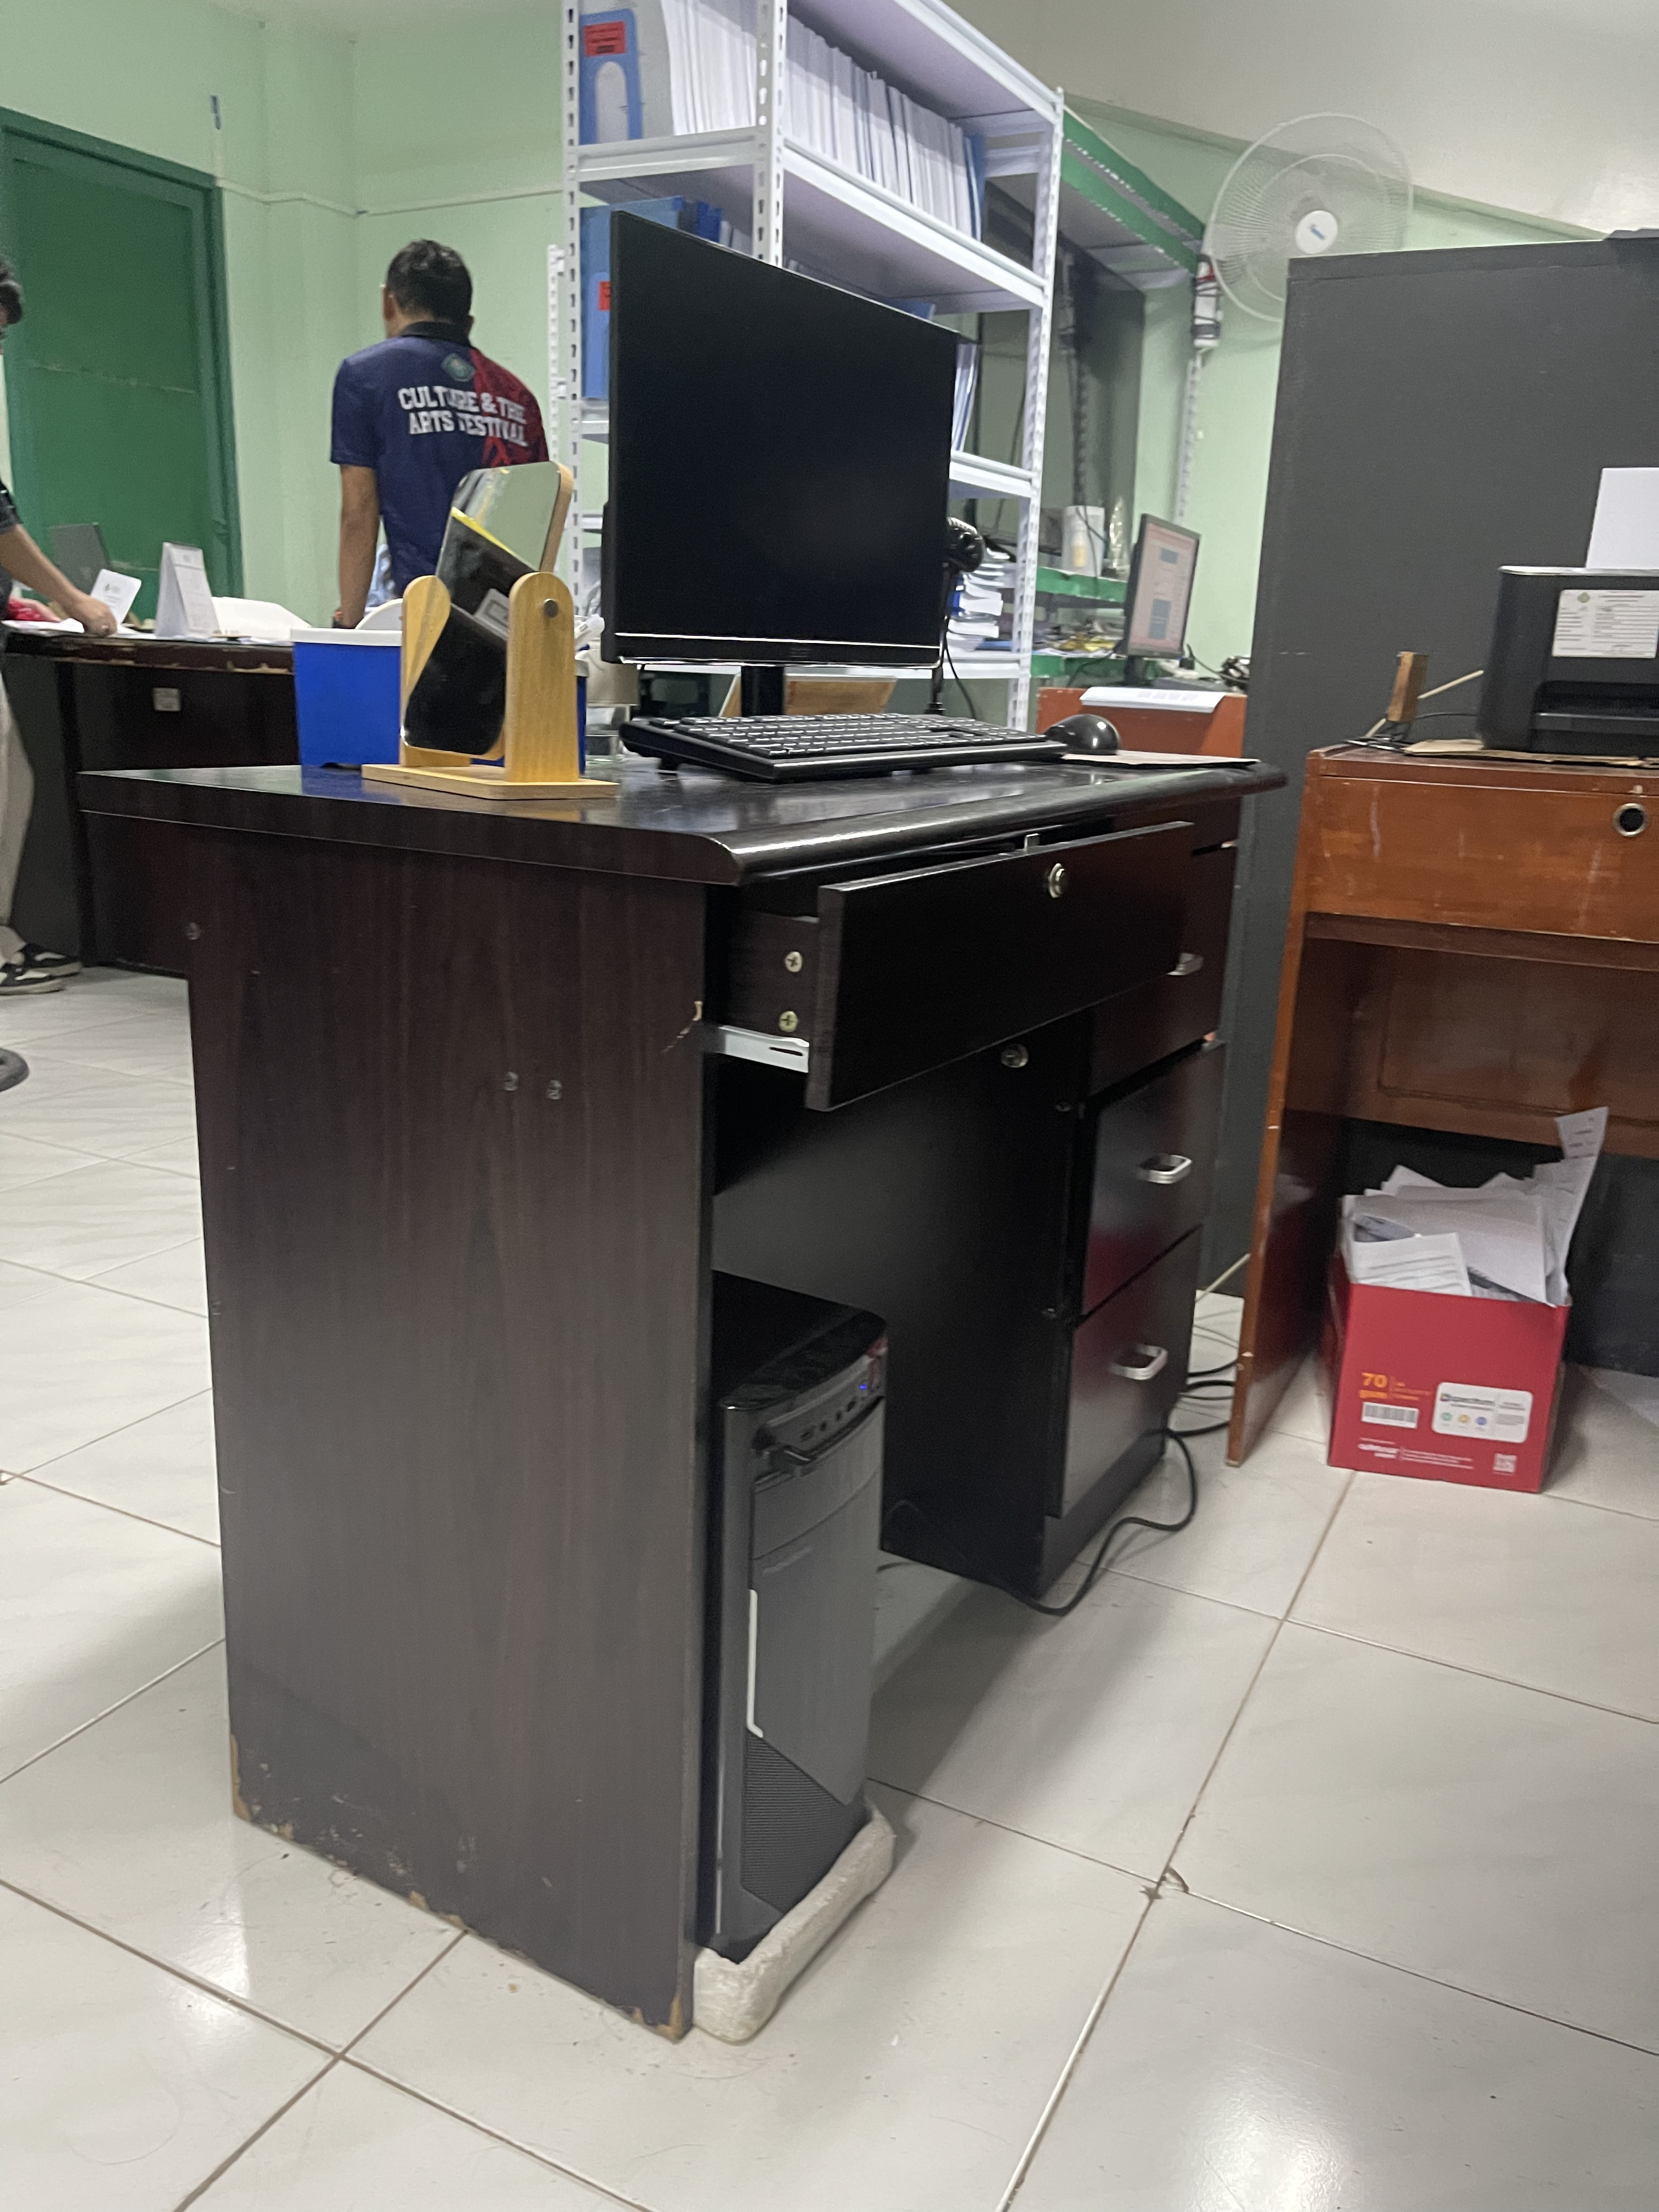table1: (73, 690, 1345, 2059)
